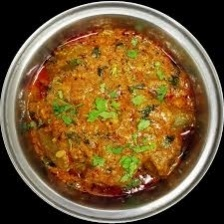sabzi: (16, 23, 203, 203)
